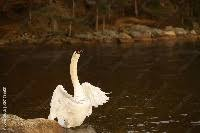swan: (48, 50, 113, 128)
